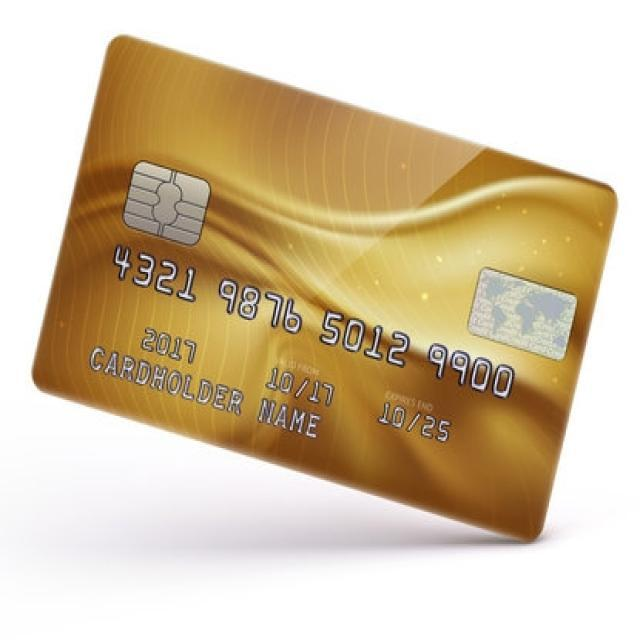payment_card: (30, 32, 619, 544)
